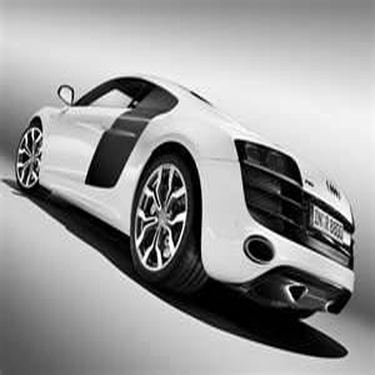car: (11, 65, 355, 323)
